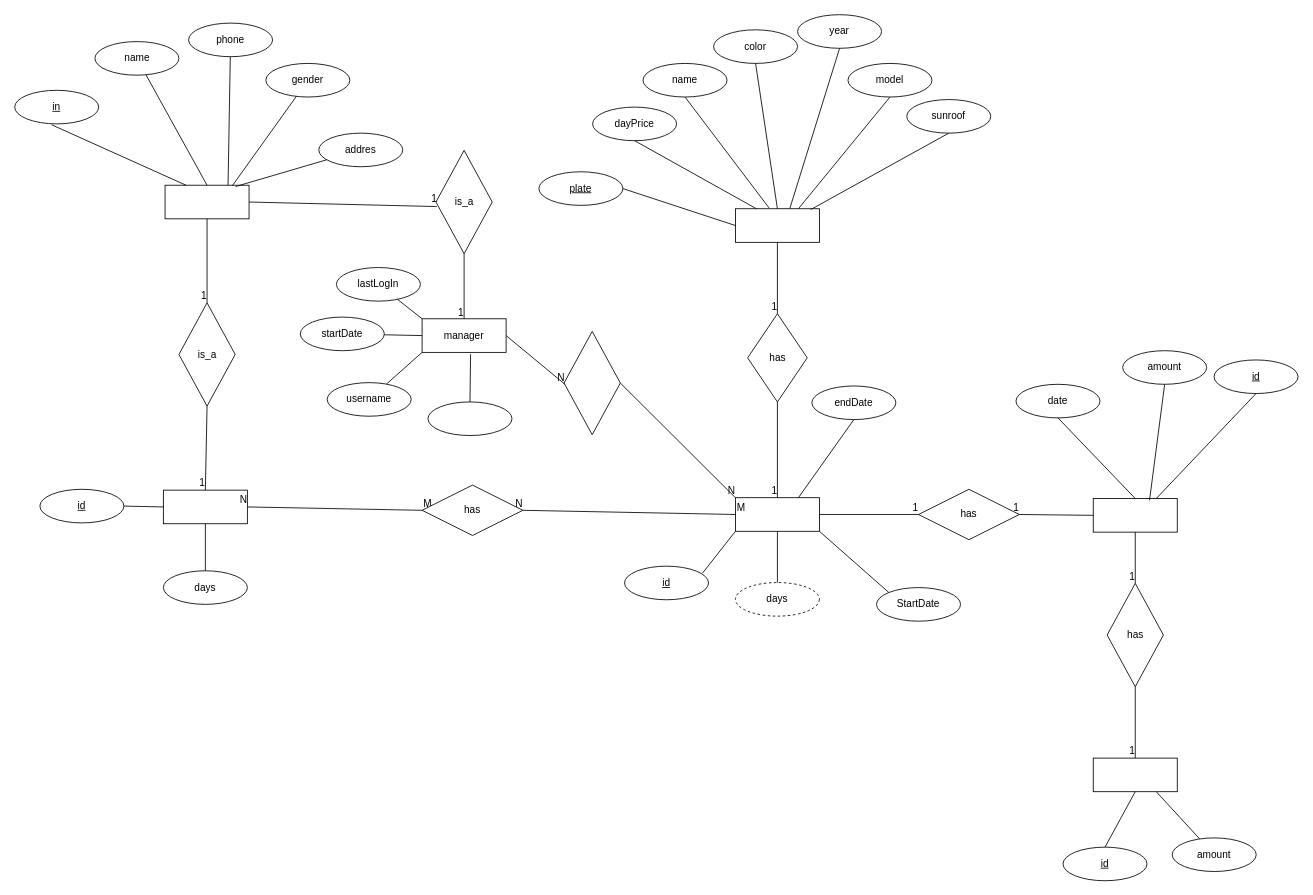
This 1313x895 diagram has some shape labels left out. The shapes that lost their labels are listed below. From the top down, each one's centre as x and y in pixels, then its label:
At point (206, 201): "Person".
At point (777, 225): "Car".
At point (591, 383): "manage".
At point (469, 418): "password".
At point (205, 506): "Custmor".
At point (777, 514): "Rental".
At point (1134, 515): "Payment".
At point (1134, 774): "Discount".
